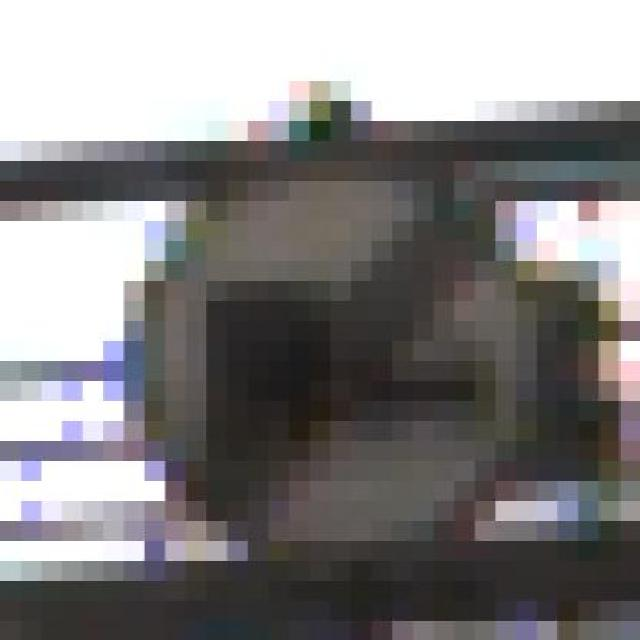Overtaking by trucks is prohibited: (61, 100, 578, 580)
